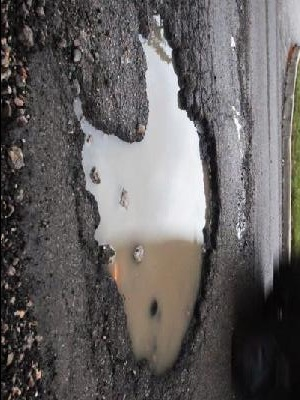pothole: (68, 5, 225, 382)
